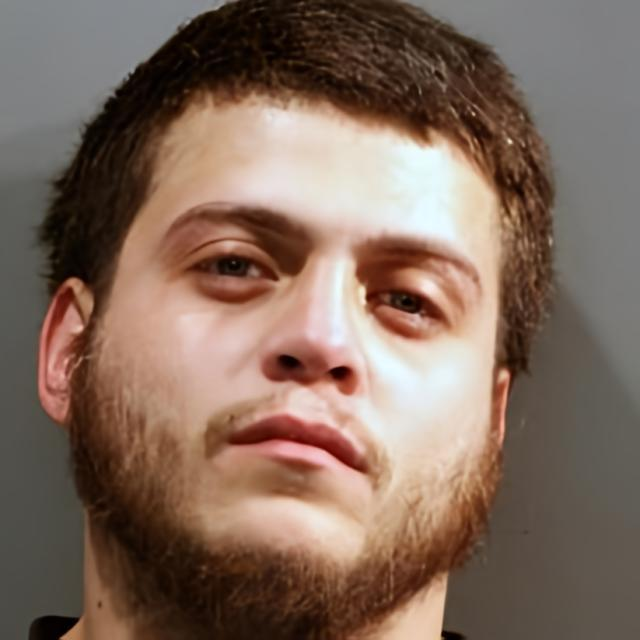content: (92, 84, 500, 604)
